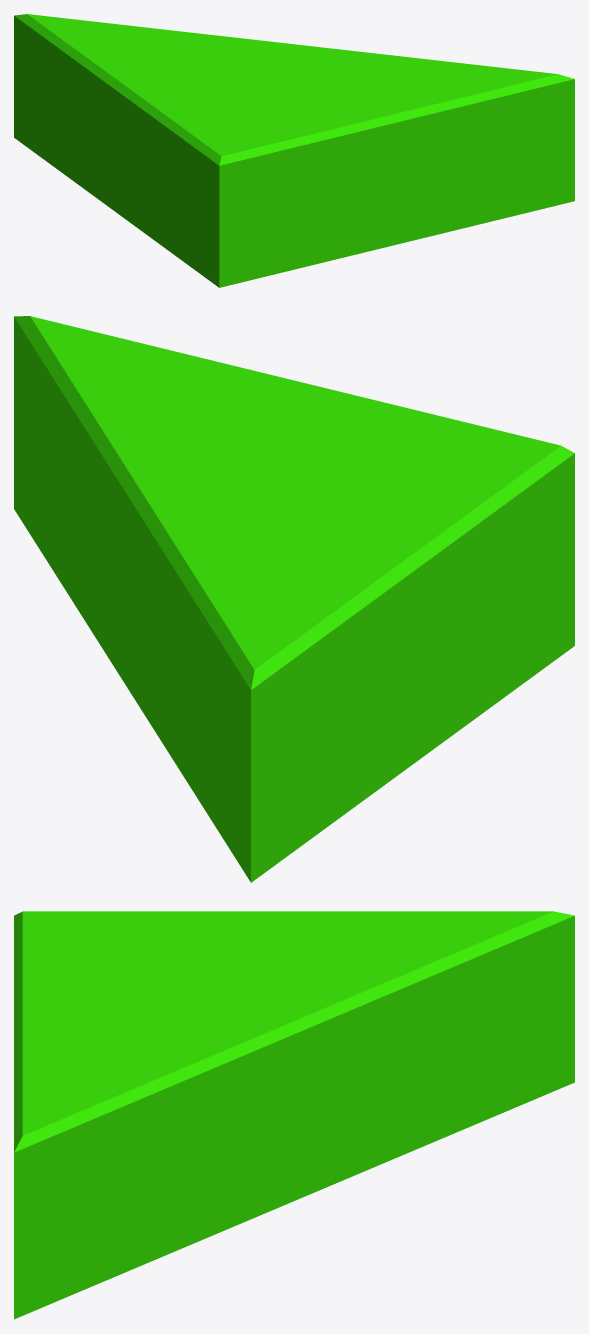
Rendered from triangle_3x1.fbx.
3 views of the same model, one above another, from view 1: azimuth 30°, elevation 25°; view 2: azimuth 150°, elevation 25°; view 3: azimuth 270°, elevation 25° (orthographic). The views are drawn at different scales.
Parts seen in each view (by area): view 1: triangle_3x1; view 2: triangle_3x1; view 3: triangle_3x1.
Part boxes in pixels (x1=…): triangle_3x1: x1=14, y1=14, x2=574, y2=287; triangle_3x1: x1=14, y1=316, x2=574, y2=882; triangle_3x1: x1=14, y1=911, x2=574, y2=1319.
Size of the model in its own units: 320 by 110 by 320.
